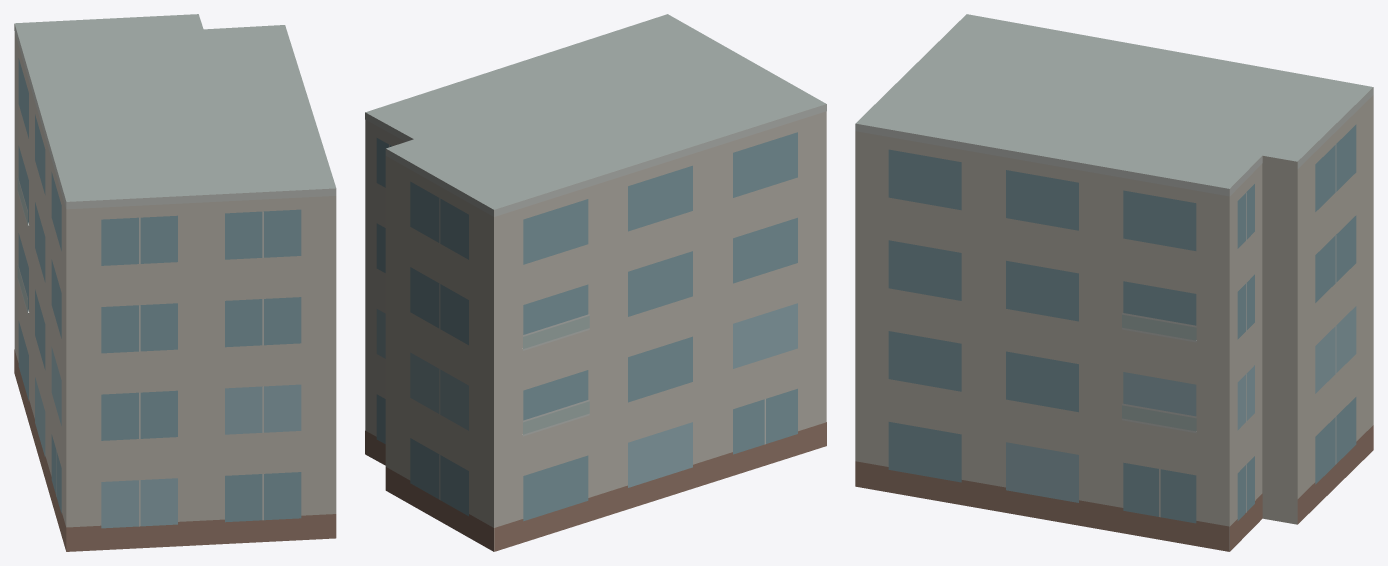
The model's file is survey-upis-32528771.glb.
3 renders of one model, left to right at view 1: azimuth 30°, elevation 25°; view 2: azimuth 150°, elevation 25°; view 3: azimuth 270°, elevation 25°, orthographic. The views are drawn at different scales.
Visible parts, largest first — view 1: survey-upis-32528771.tmp; view 2: survey-upis-32528771.tmp; view 3: survey-upis-32528771.tmp.
Part boxes in pixels (left/top/right/bottom): survey-upis-32528771.tmp: left=14, top=14, right=336, bottom=551; survey-upis-32528771.tmp: left=365, top=14, right=826, bottom=551; survey-upis-32528771.tmp: left=855, top=14, right=1373, bottom=551.
Size of the model in its own units: 12 by 11.6 by 15.02.
